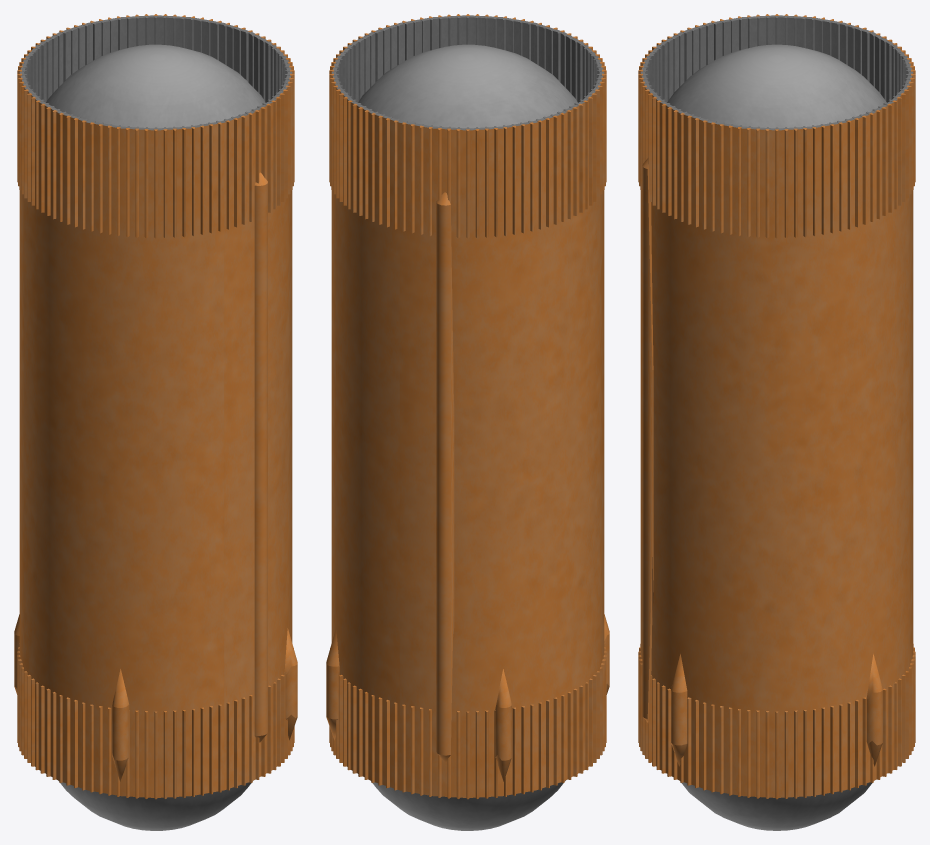
File: ksprocket.fbx
3 views of the same model, side by side, from view 1: azimuth 30°, elevation 25°; view 2: azimuth 150°, elevation 25°; view 3: azimuth 270°, elevation 25° (orthographic).
Parts seen in each view (by area): view 1: tank.007, bits.004; view 2: tank.007, bits.004; view 3: tank.007, bits.004.
Part boxes in pixels (x1,y1,x2,y2): tank.007: (17, 14, 294, 799); bits.004: (14, 15, 297, 830); tank.007: (329, 14, 606, 799); bits.004: (326, 15, 609, 830); tank.007: (638, 14, 915, 799); bits.004: (640, 15, 913, 830).
Bounding box in the file's own units: 1027 × 3119 × 1026.
